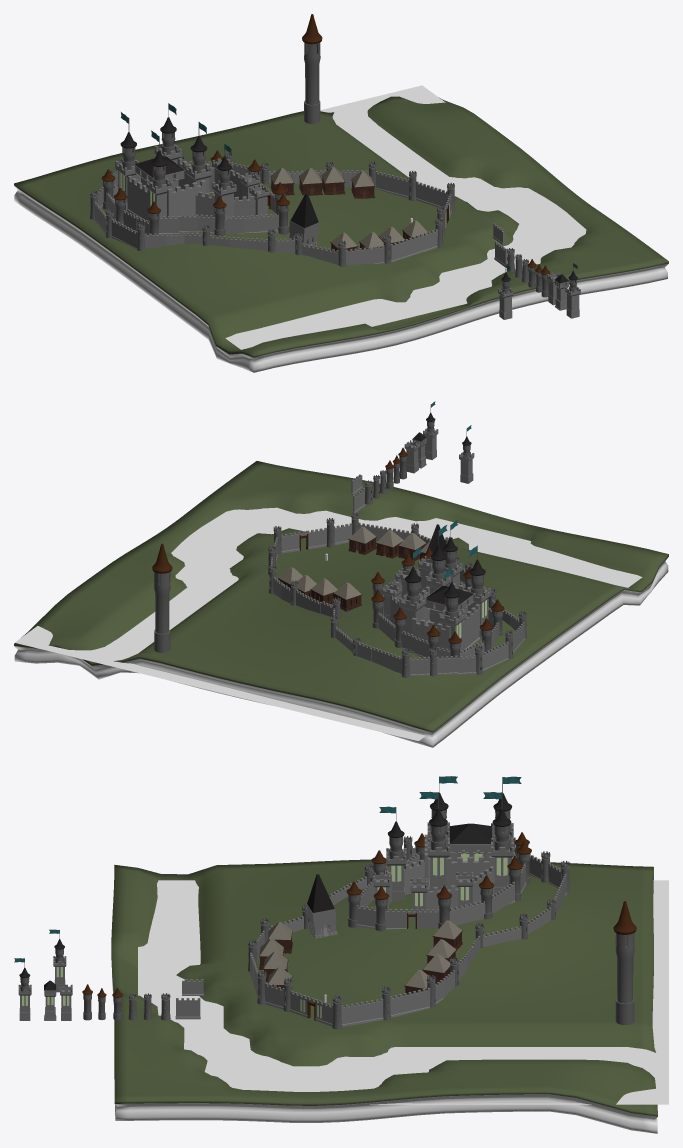
Rendered from Castle.fbx.
3 renders of one model, top to bottom at view 1: azimuth 30°, elevation 25°; view 2: azimuth 150°, elevation 25°; view 3: azimuth 270°, elevation 25°, orthographic. The views are drawn at different scales.
Parts seen in each view (by area): view 1: Plane, Plane.001, Cylinder.037, Cube.066, Cube.090, Cube.075, Cube.070, Cube.069, Cube.071, Cube.067, Cube.064, Cube.072 (+4 smaller); view 2: Plane, Plane.001, Cylinder.037, Cube.072, Cube.070, Cube.066, Cube.064, Cube.065, Cube.069, Cube.074, Cube.067, Cube.081 (+4 smaller); view 3: Plane, Plane.001, Cylinder.037, Cube.069, Cube.072, Cube.064, Cube.090, Cube.071, Cube.010, Cube.073, Cube.065, Cube.054 (+4 smaller).
Part boxes in pixels (x1,y1,x2,y2): Plane: (14, 96, 668, 372); Plane.001: (225, 85, 586, 349); Cylinder.037: (302, 14, 322, 123); Cube.066: (146, 130, 172, 222); Cube.090: (289, 193, 319, 246); Cube.075: (167, 180, 205, 218); Cube.070: (115, 112, 139, 211); Cube.069: (185, 122, 212, 193); Cube.071: (212, 143, 236, 218); Cube.067: (127, 175, 148, 221); Cube.064: (133, 156, 185, 191); Cube.072: (154, 103, 181, 163); Plane: (14, 461, 668, 747); Plane.001: (15, 507, 642, 741); Cylinder.037: (152, 543, 172, 652); Cube.072: (399, 547, 426, 634); Cube.070: (438, 568, 465, 652); Cube.066: (465, 545, 491, 638); Cube.064: (424, 586, 474, 626); Cube.065: (281, 527, 326, 553); Cube.069: (425, 525, 452, 619); Cube.074: (411, 617, 450, 650); Cube.067: (462, 604, 480, 651); Cube.081: (348, 526, 376, 554); Plane: (111, 859, 657, 1133); Plane.001: (138, 880, 668, 1104); Cylinder.037: (613, 901, 636, 1024); Cube.069: (419, 791, 449, 890); Cube.072: (483, 792, 513, 893); Cube.064: (449, 823, 492, 861); Cube.090: (306, 874, 337, 938); Cube.071: (379, 806, 406, 900); Cube.010: (384, 909, 439, 929); Cube.073: (446, 856, 494, 893); Cube.065: (289, 990, 332, 1026); Cube.054: (49, 929, 66, 992).
Bounding box in the file's own units: 103 × 32.8 × 122.
